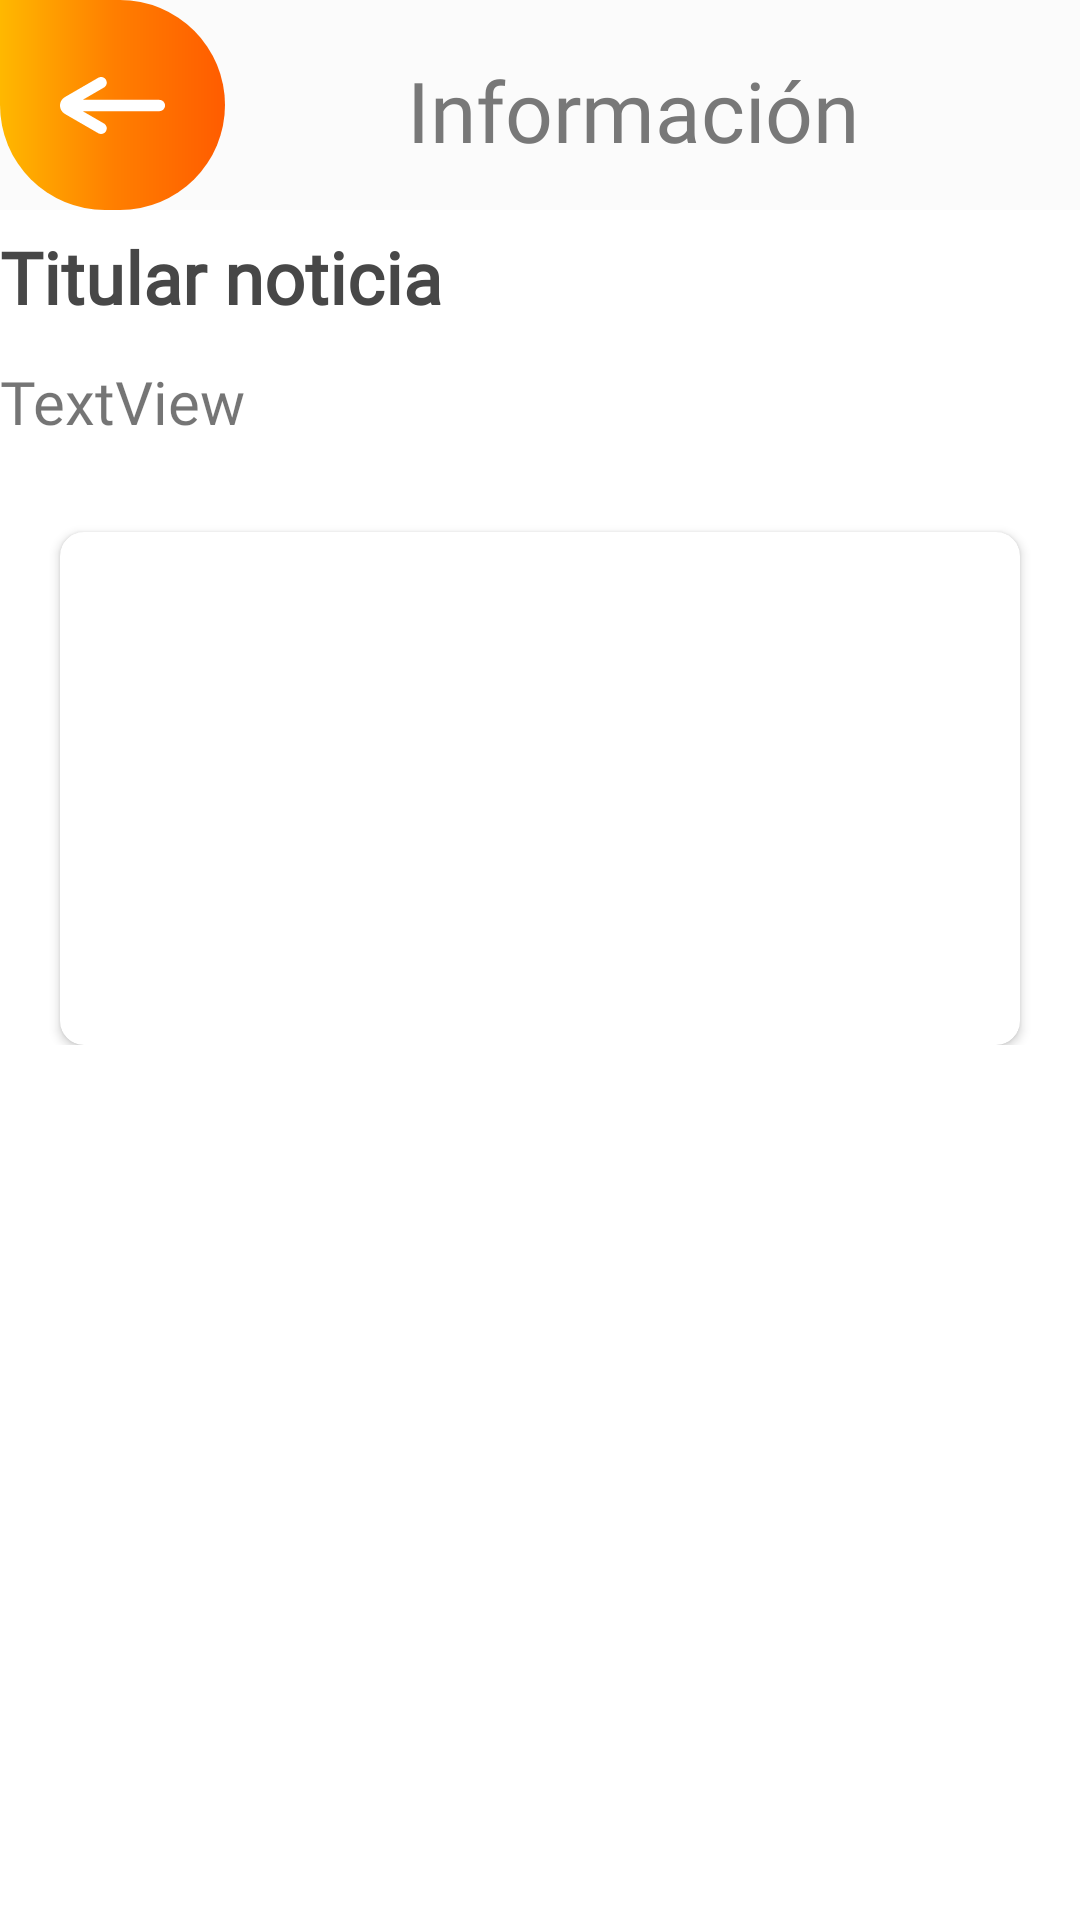

Icons on this 1080px x 1920px Android screen, each with the point to tap as (x=x, y=y):
backarrow: (x=112, y=105)
